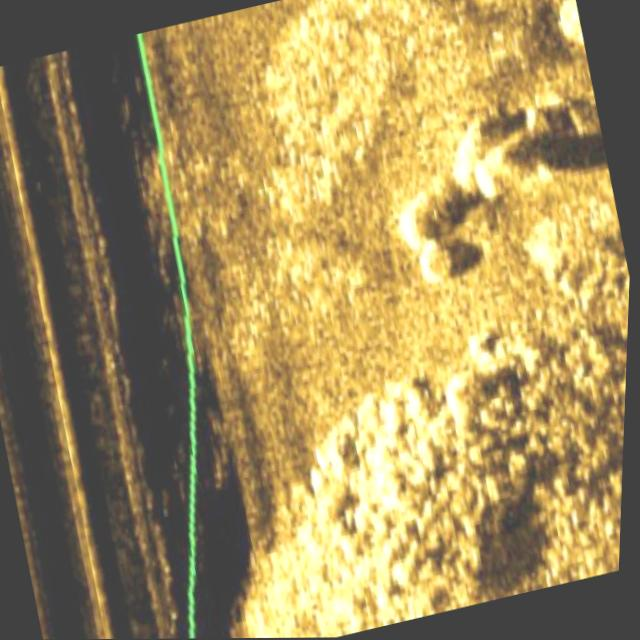bedrock group: (166, 300, 631, 639)
